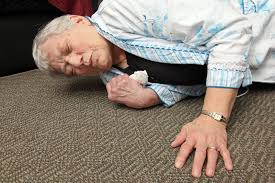collapsed: (1, 1, 275, 174)
